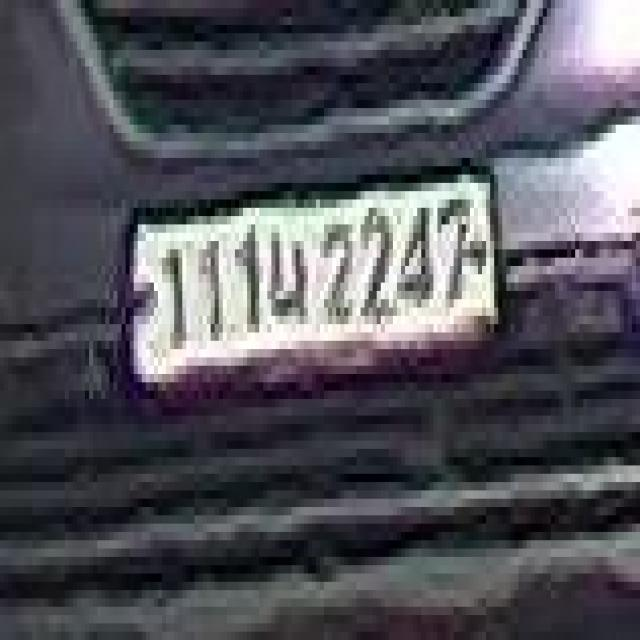illegal_plate: (123, 167, 504, 391)
